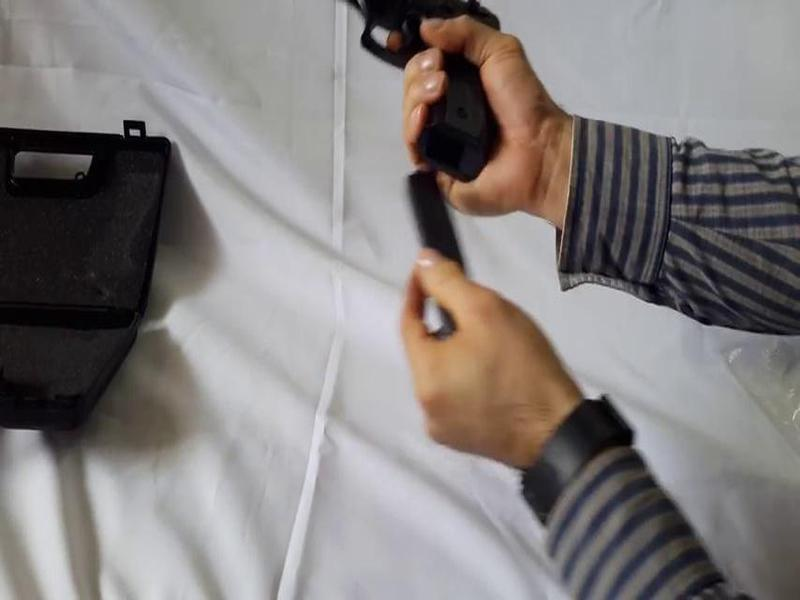Pistola: (300, 1, 511, 188)
